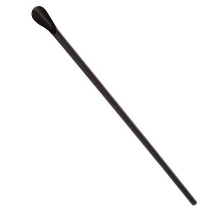drinking_straw: (24, 2, 202, 210)
